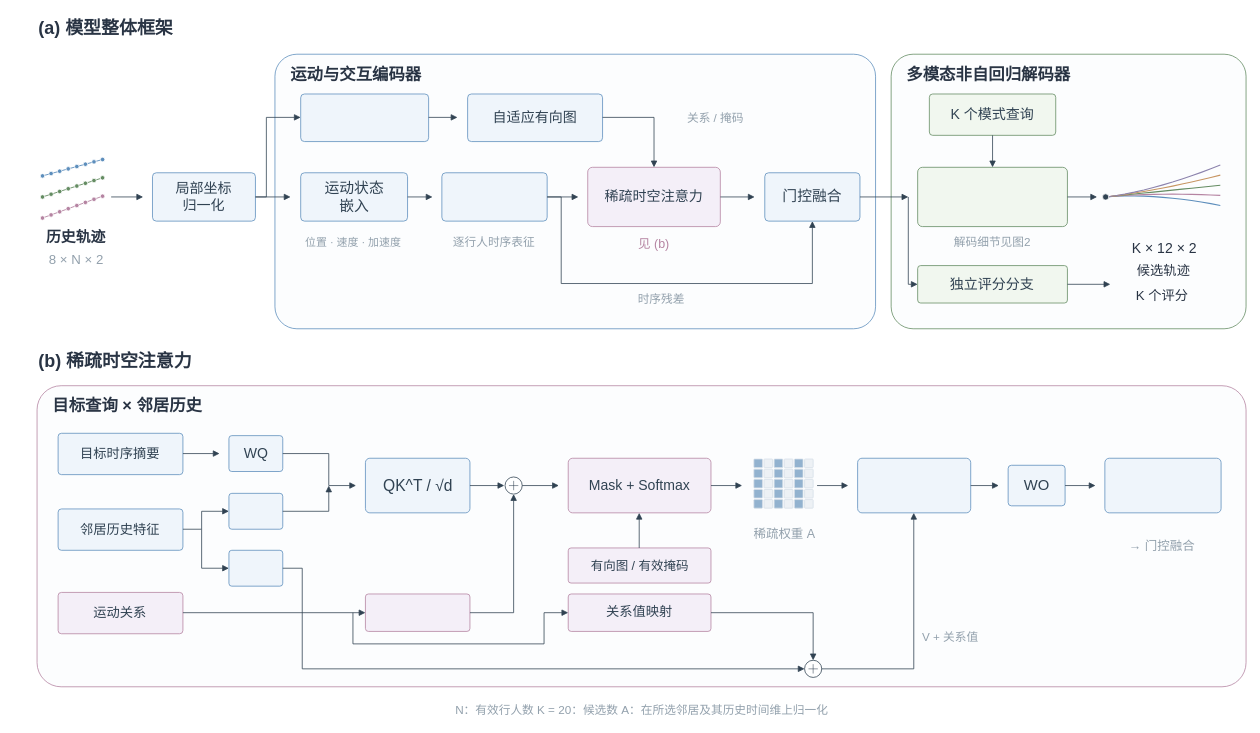
Some shapes in this 1260 by 733 pixel diagram are drawn without their labels. The centre of each missing label's shape, as x and y in pixels:
"WK" goes at (x=255, y=511).
"WV" goes at (x=255, y=568).
"交互表征" goes at (x=1162, y=485).
"关系偏置" goes at (x=417, y=612).
"加权聚合" goes at (x=914, y=485).
"并行候选生成" goes at (x=992, y=197).
"时间编码" goes at (x=494, y=196).
"运动关系编码" goes at (x=364, y=117).
